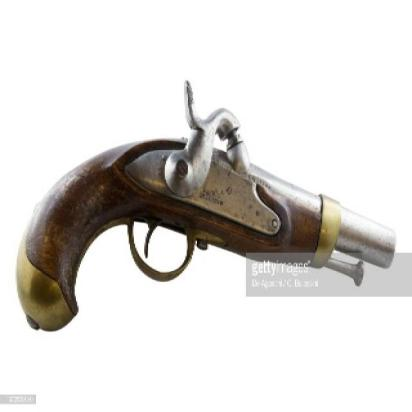Gun: (10, 79, 396, 326)
